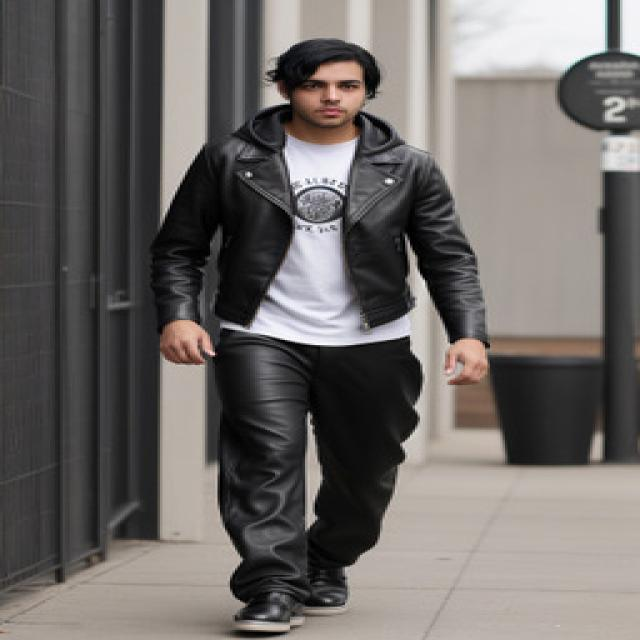Ai human 2: (127, 27, 519, 640)
